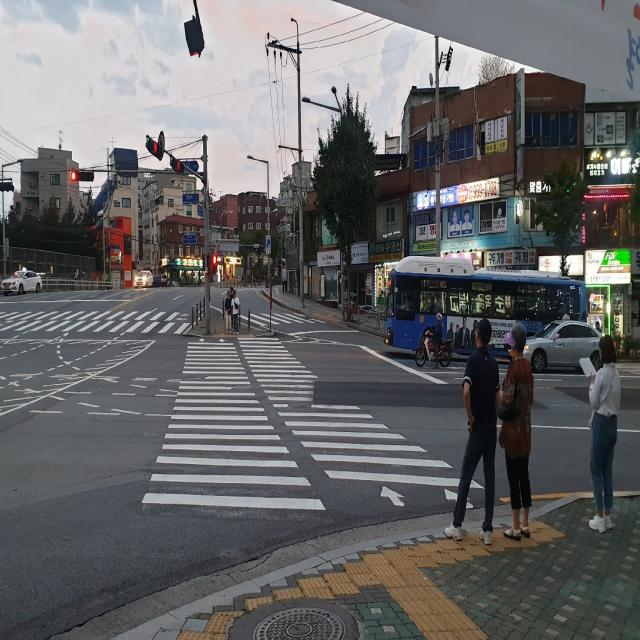빨간불: (212, 255, 218, 273)
횡단보도: (141, 336, 486, 514), (0, 308, 186, 336), (275, 316, 313, 322)
